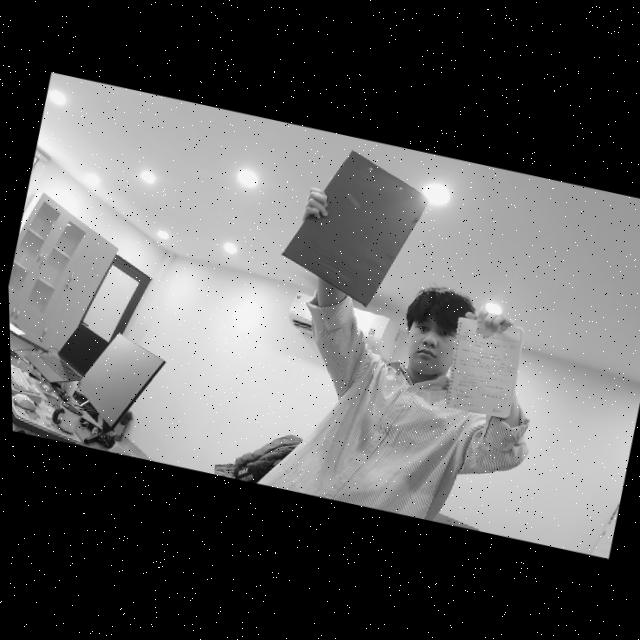document: (444, 316, 524, 418)
face: (393, 306, 458, 379)
